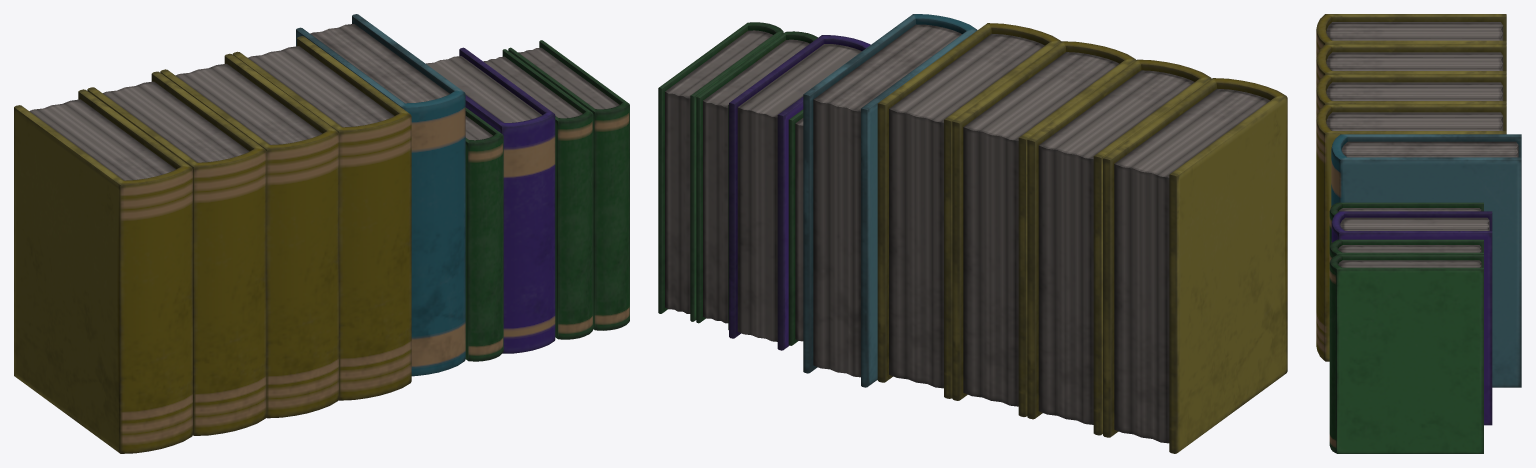
File: Books_V3.fbx
The picture shows the model from 3 angles, left to right: view 1: azimuth 30°, elevation 25°; view 2: azimuth 150°, elevation 25°; view 3: azimuth 270°, elevation 25°; orthographic projection. The views are drawn at different scales.
Parts seen in each view (by area): view 1: Books_v3; view 2: Books_v3; view 3: Books_v3.
Part boxes in pixels (box(x1,y1,x2,y2)): Books_v3: box(14, 14, 629, 453); Books_v3: box(658, 14, 1287, 453); Books_v3: box(1316, 14, 1521, 453).
Size of the model in its own units: 142 by 71.21 by 57.87.
1 material, 1 textured.
